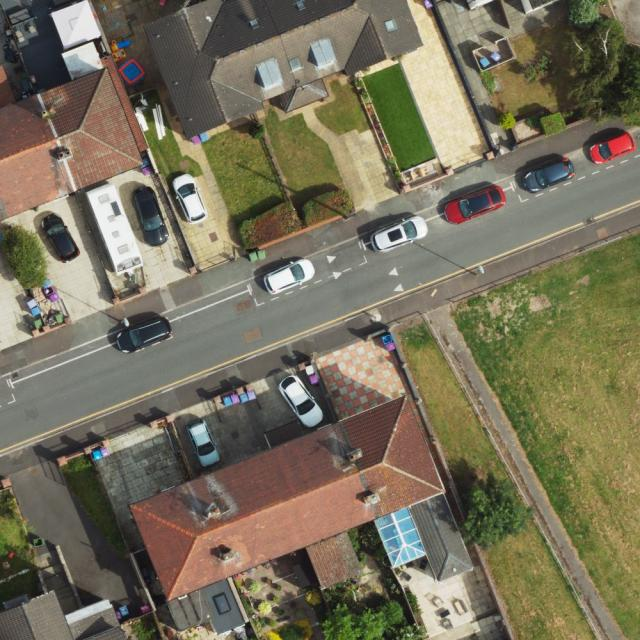roof: (129, 395, 475, 635), (144, 0, 424, 141), (0, 67, 143, 221), (1, 593, 126, 640)
skylight: (374, 505, 428, 569), (287, 55, 306, 76), (382, 18, 401, 35), (248, 16, 265, 33)
